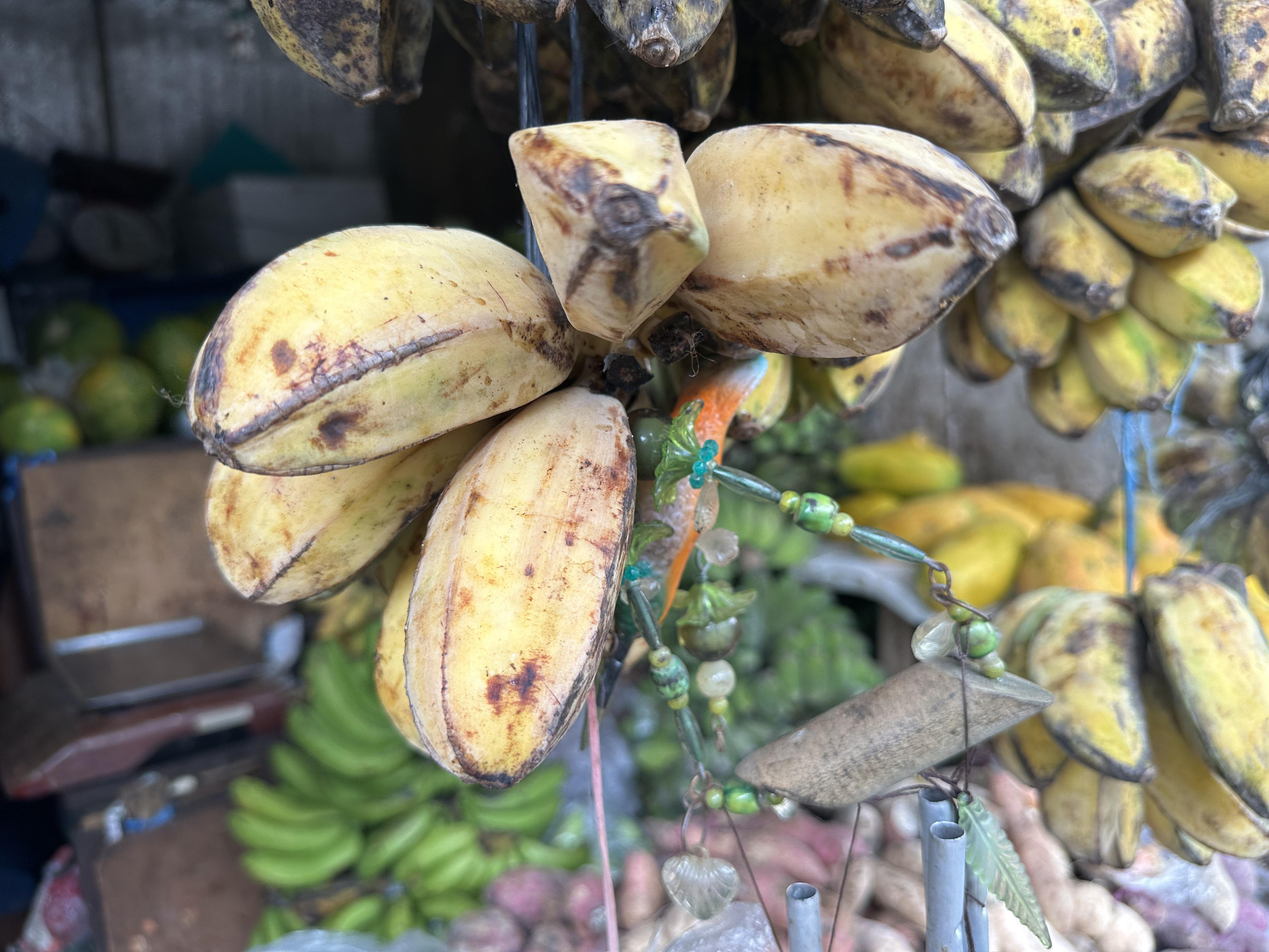ripe: (187, 120, 1020, 787), (939, 90, 1269, 445), (986, 565, 1269, 870)
